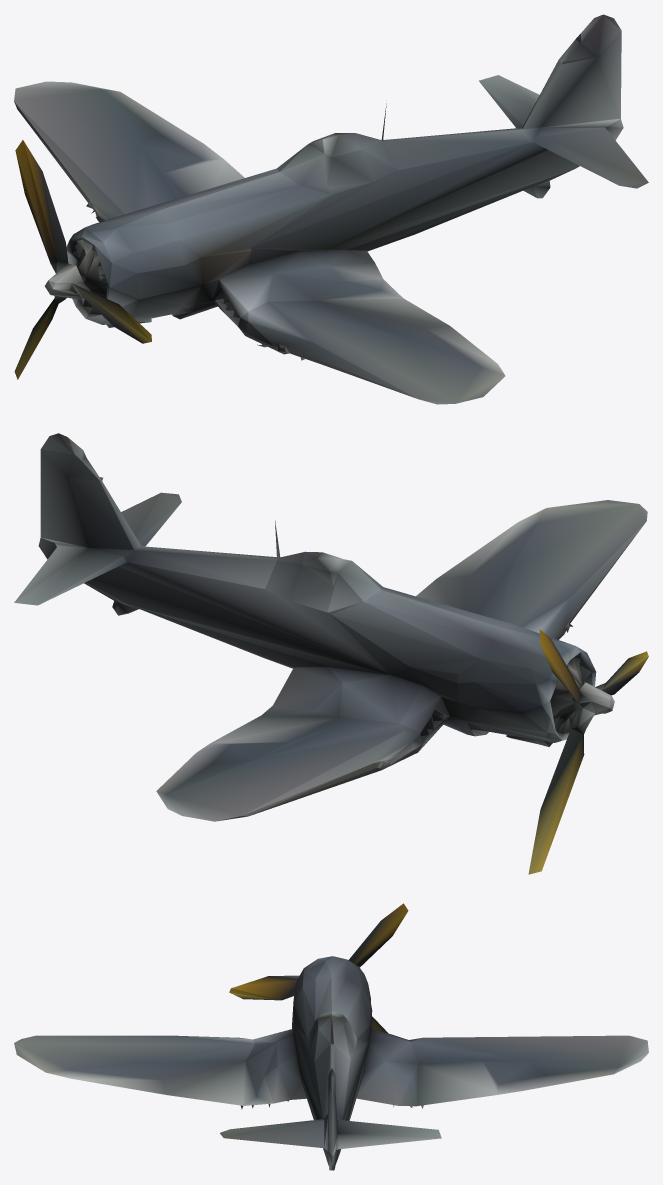
File: fighter_lod1.glb
The picture shows the model from 3 angles, top to bottom: view 1: azimuth 30°, elevation 25°; view 2: azimuth 150°, elevation 25°; view 3: azimuth 270°, elevation 25°; orthographic projection. The views are drawn at different scales.
Parts seen in each view (by area): view 1: fighter; view 2: fighter; view 3: fighter.
Boxes of the visible parts, x1=… form: fighter: x1=14, y1=14, x2=648, y2=404; fighter: x1=14, y1=433, x2=648, y2=874; fighter: x1=14, y1=903, x2=648, y2=1170.
Bounding box in the file's own units: 1.45 × 0.6533 × 1.89.
